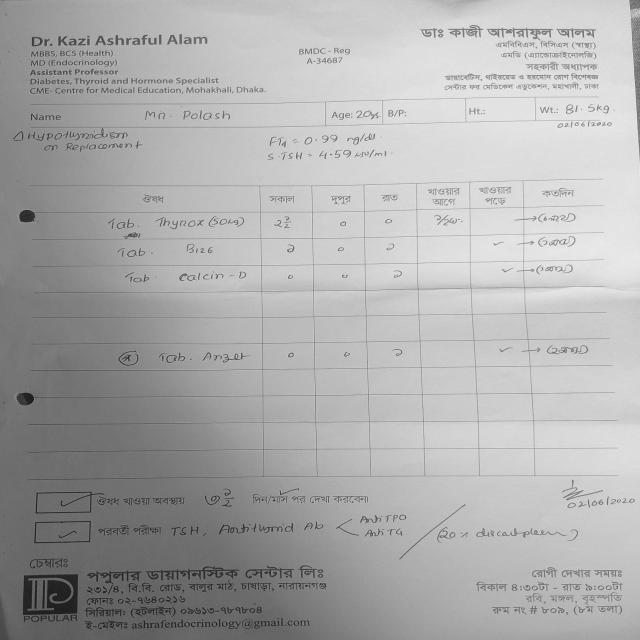Arbit: (195, 346, 248, 366)
B126: (186, 241, 218, 260)
Calcin D: (176, 268, 250, 286)
Thyrox: (157, 216, 208, 235)
